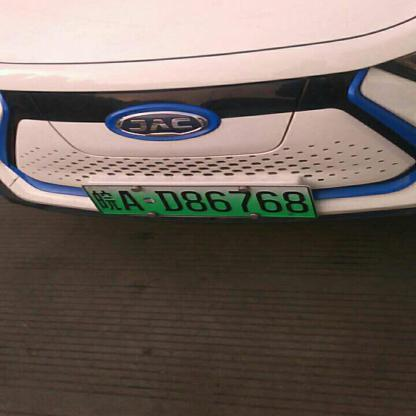lp: (82, 185, 316, 216)
